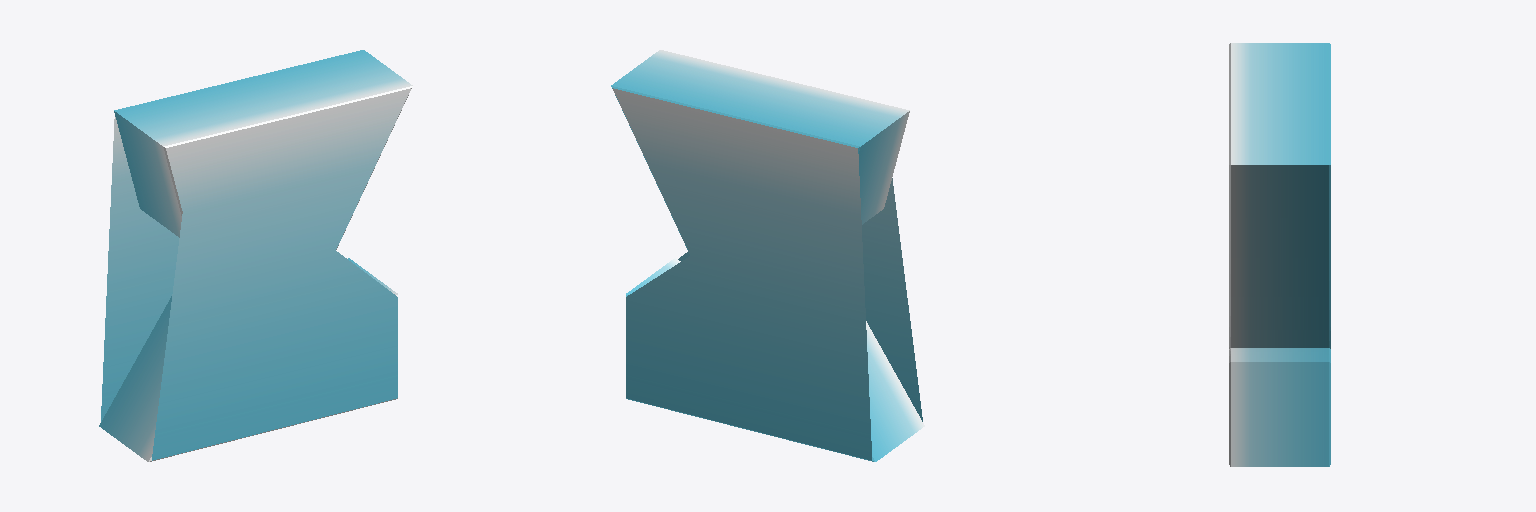
3 renders of one model, left to right at view 1: azimuth 30°, elevation 25°; view 2: azimuth 150°, elevation 25°; view 3: azimuth 270°, elevation 25°, orthographic.
Parts seen in each view (by area): view 1: polySurface27; view 2: polySurface27; view 3: polySurface27.
Boxes of the visible parts, <box> form: polySurface27: <box>99,50,412,461</box>; polySurface27: <box>611,50,924,461</box>; polySurface27: <box>1229,43,1330,466</box>.
Bounding box in the file's own units: 1.98 × 2.23 × 0.6578.
Materials: 1 (1 with a texture image).